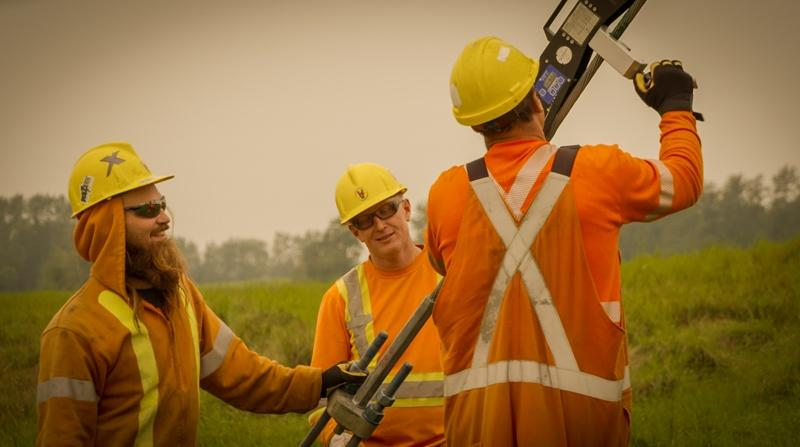helmet: (67, 143, 174, 221), (452, 36, 542, 126), (336, 163, 411, 227)
